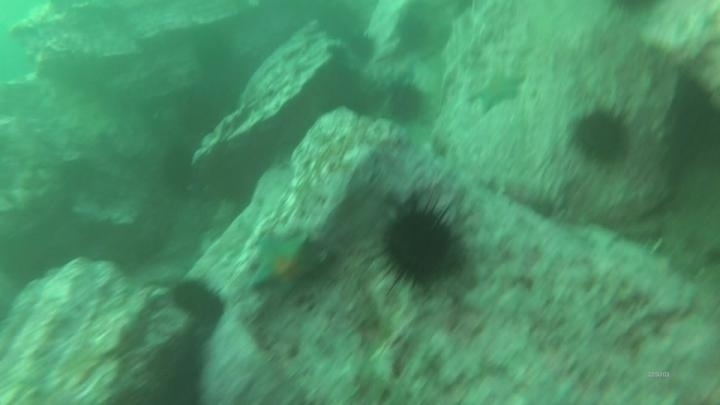echinus: (376, 198, 465, 291), (568, 103, 636, 169), (170, 276, 227, 327), (158, 142, 203, 194), (383, 79, 428, 127), (313, 2, 363, 43), (602, 0, 668, 25), (346, 31, 379, 65)
starfish: (248, 229, 324, 304), (467, 68, 527, 116)
